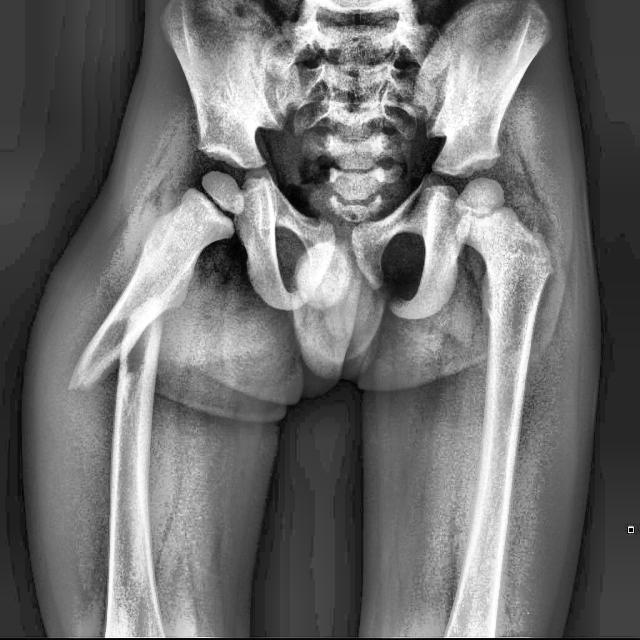fracture: (64, 302, 168, 394)
